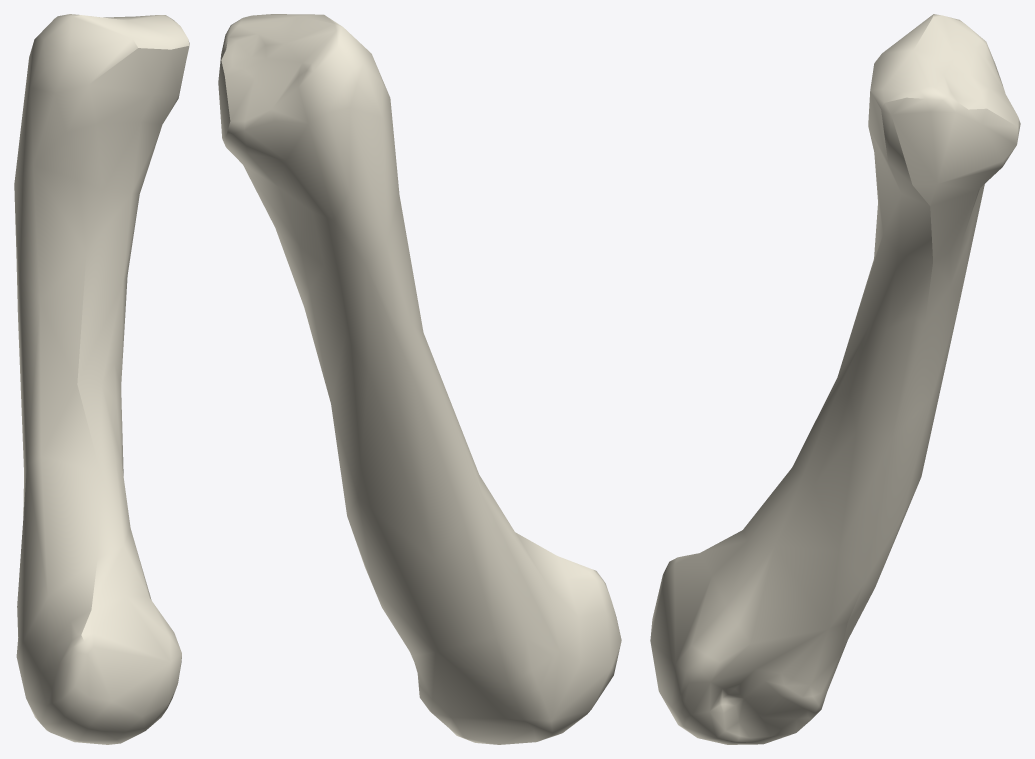
The model's file is fma24473_fj6363.glb.
The picture shows the model from 3 angles, left to right: view 1: azimuth 30°, elevation 25°; view 2: azimuth 150°, elevation 25°; view 3: azimuth 270°, elevation 25°; orthographic projection. The views are drawn at different scales.
Visible parts, largest first — view 1: FMA24473_FJ6363; view 2: FMA24473_FJ6363; view 3: FMA24473_FJ6363.
Boxes of the visible parts, x1,y1,x2,y2 form: FMA24473_FJ6363: (14, 14, 189, 744); FMA24473_FJ6363: (218, 14, 621, 744); FMA24473_FJ6363: (650, 14, 1020, 744).
Size of the model in its own units: 0.02 by 0.0549 by 0.0243.
